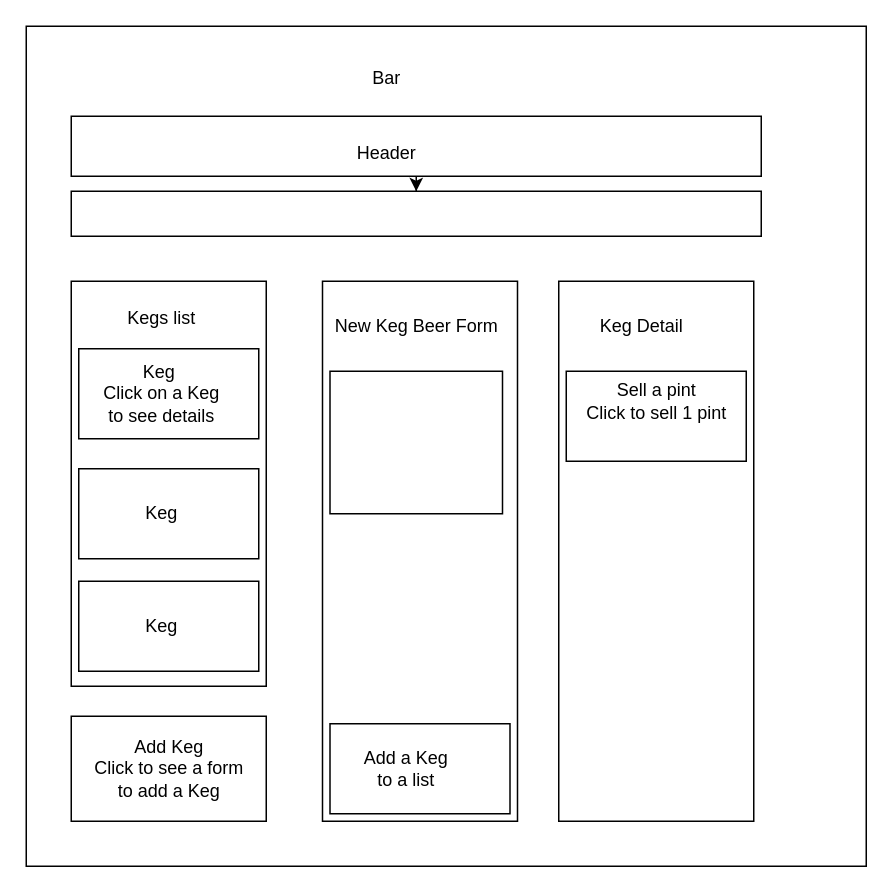
Image size: 893x893. Some labels were removed from this diagram. The centre of each missing label's shape, as x and y in pixels:
"- name - brand - price - % of Alcohol -pints" belongs at point (415, 442).
"Keg Control" belongs at point (415, 213).
